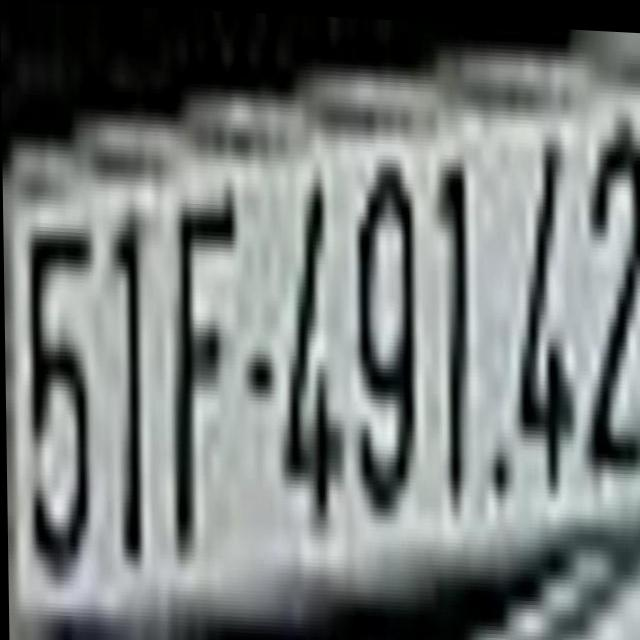1: (106, 202, 152, 584), (431, 134, 470, 527)
2: (582, 105, 640, 503)
4: (275, 159, 348, 541), (514, 121, 578, 520)
5: (23, 222, 95, 586)
9: (352, 138, 417, 529)
F: (163, 189, 243, 565)
